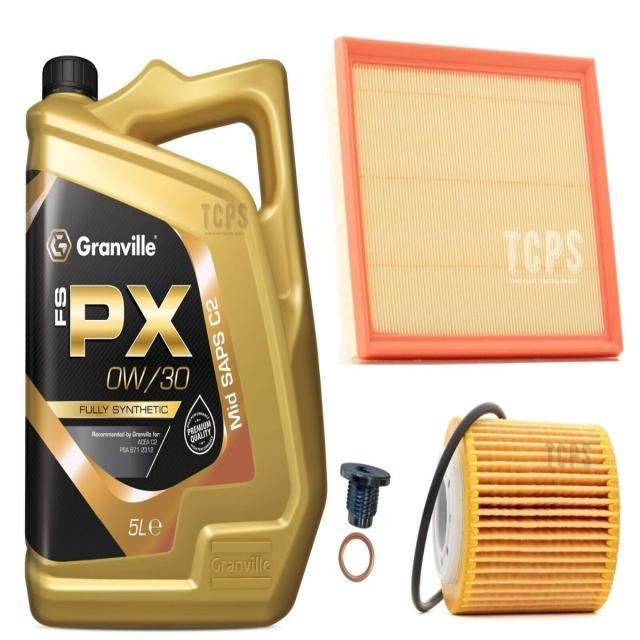air_filter: (333, 29, 627, 366)
motor_oil: (23, 39, 324, 628)
oil_filter: (417, 401, 624, 627)
